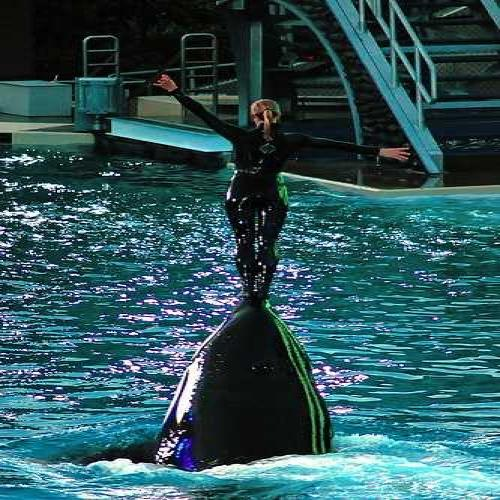killer_whale-endangered: (92, 282, 412, 480)
